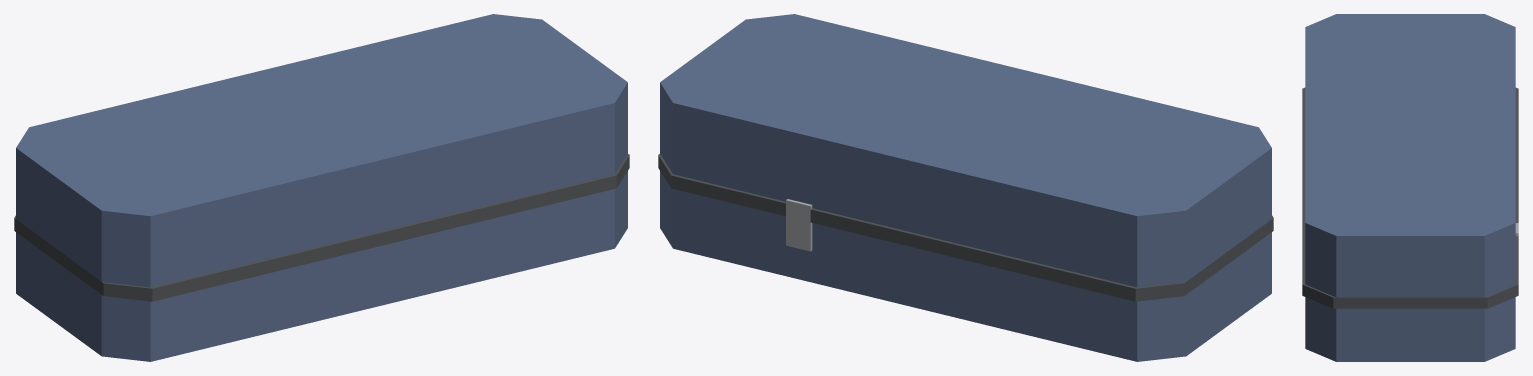
File: glasses_case.glb
3 renders of one model, left to right at view 1: azimuth 30°, elevation 25°; view 2: azimuth 150°, elevation 25°; view 3: azimuth 270°, elevation 25°, orthographic. The views are drawn at different scales.
Parts seen in each view (by area): view 1: glasses_case; view 2: glasses_case; view 3: glasses_case.
Part boxes in pixels (x1=…): glasses_case: x1=14, y1=14, x2=629, y2=361; glasses_case: x1=658, y1=14, x2=1273, y2=361; glasses_case: x1=1302, y1=14, x2=1518, y2=361.
Size of the model in its own units: 0.17 by 0.045 by 0.07.
